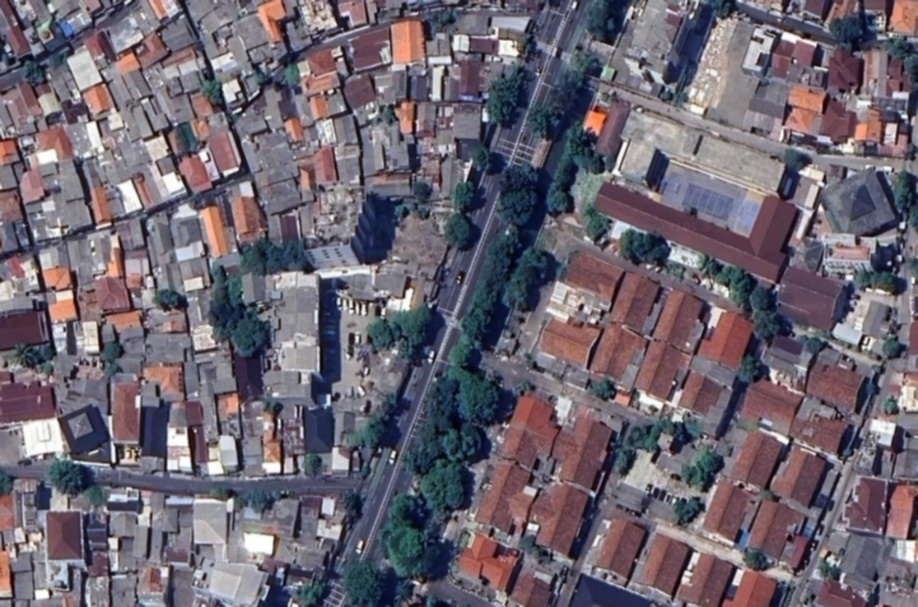building: (589, 179, 789, 283), (618, 104, 788, 198), (596, 0, 713, 107), (293, 173, 384, 283), (10, 141, 97, 246), (258, 274, 320, 406), (531, 284, 607, 385), (243, 497, 342, 568), (468, 456, 546, 540), (816, 168, 899, 245), (802, 345, 882, 418), (544, 410, 614, 491), (496, 393, 565, 471), (672, 359, 737, 441), (523, 480, 592, 557), (764, 442, 836, 515), (0, 0, 93, 56), (646, 285, 714, 359), (770, 265, 846, 331), (786, 397, 861, 461), (696, 479, 764, 549), (629, 339, 694, 411), (735, 377, 805, 443), (35, 155, 92, 235), (586, 323, 646, 397), (452, 532, 521, 596), (752, 329, 818, 394), (696, 307, 758, 376), (187, 554, 267, 607), (556, 250, 624, 312), (745, 498, 805, 565), (834, 472, 895, 537), (192, 499, 253, 564), (671, 547, 736, 607), (739, 75, 794, 144), (591, 516, 648, 582), (41, 508, 84, 595), (96, 106, 150, 175), (719, 428, 778, 491), (152, 45, 216, 103), (813, 229, 885, 278), (636, 533, 691, 597), (745, 195, 801, 256), (607, 270, 660, 334), (62, 234, 118, 294), (56, 404, 114, 461), (291, 45, 352, 99), (0, 370, 55, 427), (566, 573, 657, 607), (198, 113, 244, 177), (101, 53, 153, 109), (237, 496, 296, 541), (817, 97, 865, 150), (838, 534, 887, 584), (721, 566, 780, 607), (0, 255, 40, 314), (2, 82, 45, 136), (42, 53, 83, 109), (153, 79, 198, 130), (185, 500, 231, 549), (256, 173, 305, 219), (0, 251, 44, 302), (256, 80, 296, 136), (739, 29, 778, 86), (343, 29, 393, 73), (198, 201, 233, 262), (856, 297, 900, 345), (592, 103, 630, 158), (140, 212, 177, 268), (63, 47, 105, 96), (228, 192, 266, 245), (885, 484, 918, 544), (134, 404, 167, 464), (184, 0, 237, 37), (174, 244, 214, 293), (230, 345, 265, 400), (0, 312, 48, 352), (185, 291, 217, 351), (147, 326, 196, 365), (30, 124, 72, 169), (616, 139, 657, 185), (194, 350, 234, 397), (293, 0, 340, 40), (0, 191, 29, 255), (175, 151, 216, 196), (100, 13, 144, 54), (0, 1, 31, 59), (107, 335, 148, 378), (824, 49, 863, 94), (813, 574, 866, 607), (154, 153, 188, 204), (64, 119, 104, 162), (131, 564, 171, 607), (372, 126, 409, 172), (110, 381, 137, 444), (389, 22, 425, 69), (21, 419, 64, 458), (252, 132, 293, 172), (511, 572, 557, 607), (158, 18, 199, 57), (108, 175, 143, 220), (286, 540, 332, 574), (766, 31, 796, 82), (291, 496, 322, 545), (130, 167, 163, 213), (302, 408, 333, 456), (317, 494, 348, 542), (785, 81, 830, 114), (223, 31, 256, 76), (372, 262, 411, 300), (129, 32, 169, 69), (185, 415, 210, 474), (232, 12, 269, 51), (280, 564, 321, 599), (136, 366, 180, 398), (50, 0, 91, 34), (106, 492, 139, 534), (167, 430, 195, 479), (811, 0, 858, 29), (90, 150, 126, 187), (342, 74, 380, 109), (783, 106, 822, 140), (102, 309, 147, 338), (233, 104, 269, 140), (168, 213, 203, 250), (12, 167, 47, 204), (96, 275, 130, 313), (855, 94, 908, 118), (786, 36, 820, 73), (876, 120, 910, 157), (278, 406, 303, 456), (365, 172, 412, 198), (455, 57, 486, 96), (216, 392, 240, 442), (32, 17, 66, 52), (338, 273, 376, 304), (793, 237, 824, 274), (237, 401, 264, 443), (884, 0, 917, 34), (864, 415, 898, 448), (855, 109, 883, 149), (309, 147, 337, 187), (450, 110, 486, 141), (81, 85, 114, 118), (402, 73, 433, 108), (152, 263, 182, 299), (32, 82, 61, 119), (64, 377, 108, 401), (281, 18, 313, 51), (122, 70, 153, 104), (143, 308, 186, 332), (87, 187, 114, 225), (327, 114, 358, 147), (115, 219, 146, 252), (333, 0, 368, 29), (164, 528, 189, 568), (266, 215, 298, 246), (141, 131, 172, 163), (217, 77, 247, 110), (486, 15, 529, 38), (336, 146, 363, 182), (215, 436, 239, 476), (170, 567, 193, 607), (240, 271, 267, 305), (127, 106, 153, 141), (147, 0, 183, 25), (0, 63, 30, 93), (59, 95, 88, 126), (242, 439, 265, 478), (107, 572, 133, 606), (112, 49, 142, 78), (41, 266, 72, 294), (883, 71, 915, 98), (580, 102, 604, 138), (122, 248, 149, 280), (128, 276, 155, 308), (48, 351, 75, 383), (453, 35, 494, 56), (0, 142, 18, 189), (107, 538, 131, 573), (188, 89, 215, 120), (892, 450, 917, 483), (456, 12, 490, 36), (440, 160, 462, 197), (130, 525, 152, 562), (418, 155, 445, 185), (411, 278, 437, 309), (426, 36, 452, 66), (10, 572, 35, 603), (241, 536, 274, 559), (293, 92, 314, 128), (281, 115, 306, 145), (493, 37, 524, 61), (211, 252, 242, 276), (86, 513, 105, 552), (47, 301, 77, 325), (416, 102, 436, 137), (158, 504, 181, 534), (0, 492, 17, 532), (395, 100, 415, 134), (334, 415, 355, 447), (82, 578, 105, 607), (208, 50, 237, 73), (261, 443, 281, 476), (81, 319, 99, 355), (314, 118, 337, 146), (429, 65, 446, 102), (322, 91, 346, 117), (305, 97, 328, 122), (229, 180, 255, 202), (0, 99, 15, 137), (264, 409, 279, 446), (9, 552, 33, 575), (38, 249, 61, 272), (273, 477, 347, 484), (183, 362, 199, 394), (84, 555, 109, 575), (860, 0, 889, 16), (802, 1, 829, 18), (443, 74, 460, 101), (108, 454, 143, 467), (0, 552, 10, 597), (185, 402, 202, 427), (872, 53, 887, 81), (191, 324, 213, 343), (886, 57, 903, 79), (434, 127, 454, 145), (303, 125, 319, 147), (385, 0, 406, 16), (195, 301, 209, 324), (14, 479, 38, 492), (194, 532, 217, 545), (29, 598, 62, 607), (808, 70, 825, 87), (186, 401, 203, 413), (190, 341, 203, 350), (149, 521, 159, 532), (204, 418, 213, 428), (133, 533, 142, 542), (138, 515, 146, 525), (264, 461, 279, 466), (58, 370, 70, 376)
tree: (452, 225, 529, 345), (522, 64, 592, 146), (434, 365, 512, 432), (499, 241, 565, 319), (733, 282, 793, 347), (398, 424, 455, 486), (415, 457, 470, 521), (374, 526, 436, 581), (701, 249, 757, 306), (493, 162, 540, 229), (222, 309, 278, 365), (335, 555, 395, 607), (676, 443, 729, 497), (614, 226, 678, 270), (484, 66, 528, 127), (559, 123, 604, 179), (346, 412, 397, 460), (393, 308, 440, 360), (543, 154, 579, 215), (824, 11, 874, 54), (439, 208, 483, 252), (441, 421, 485, 465), (425, 377, 458, 431), (43, 459, 86, 500), (881, 29, 918, 76), (449, 177, 490, 217), (585, 2, 623, 44), (206, 304, 242, 344), (262, 241, 306, 273), (583, 204, 616, 243), (569, 43, 604, 78), (386, 493, 422, 527), (894, 174, 918, 225), (470, 147, 504, 182), (856, 271, 901, 297), (365, 318, 399, 352), (293, 576, 329, 607), (779, 144, 812, 176), (735, 355, 765, 389), (662, 418, 699, 445), (637, 419, 664, 454), (8, 345, 40, 374), (388, 577, 418, 607), (240, 491, 277, 515), (671, 499, 702, 526), (239, 244, 267, 273), (447, 339, 474, 369), (102, 343, 121, 377), (411, 179, 436, 204), (80, 485, 106, 509), (877, 337, 904, 360), (612, 448, 634, 476), (201, 79, 223, 107), (377, 390, 401, 415), (300, 452, 324, 476), (224, 276, 242, 308), (709, 0, 736, 21), (155, 288, 182, 309), (742, 551, 768, 572), (36, 340, 58, 364), (280, 63, 301, 88), (814, 561, 840, 581), (180, 124, 198, 152), (210, 485, 236, 504), (212, 267, 225, 304), (393, 204, 428, 217), (589, 381, 615, 398), (803, 335, 823, 354), (344, 494, 359, 519), (623, 429, 642, 447), (879, 395, 897, 414), (512, 379, 530, 397), (263, 398, 281, 415), (36, 360, 54, 376), (250, 68, 267, 84), (520, 354, 536, 371), (423, 593, 440, 607), (905, 259, 918, 277), (380, 107, 394, 123), (554, 262, 566, 279), (359, 465, 372, 480)
